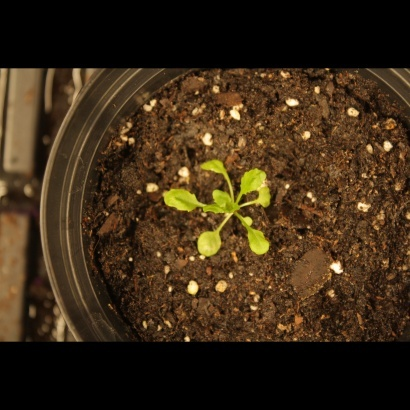leaf: (238, 218, 275, 259), (159, 185, 202, 217), (238, 163, 268, 194), (198, 155, 231, 181), (196, 229, 225, 258), (210, 186, 240, 212), (255, 188, 278, 211)
